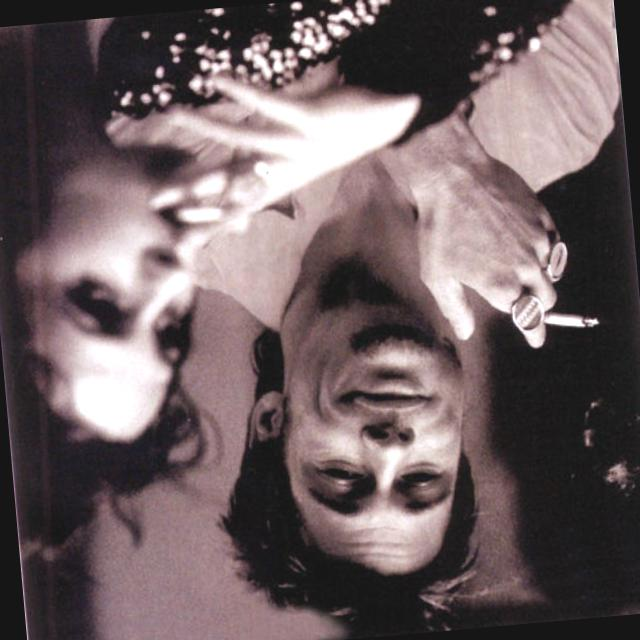smoke: (544, 308, 596, 334)
